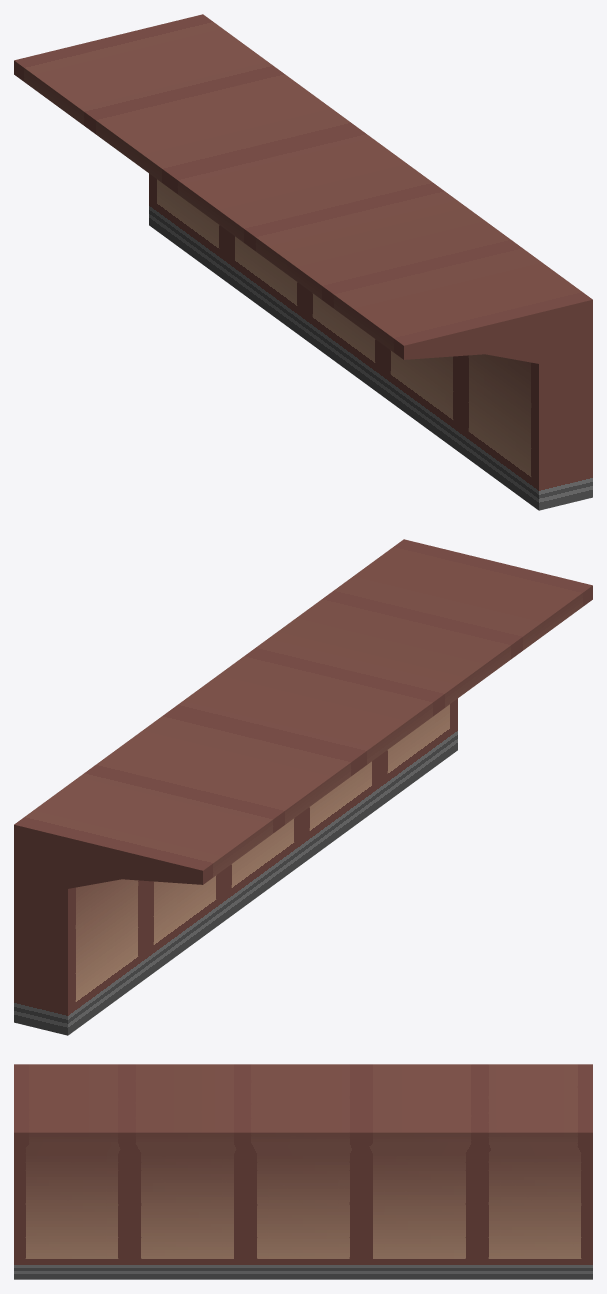
The model's file is tunnelclosed.fbx.
3 renders of one model, top to bottom at view 1: azimuth 30°, elevation 25°; view 2: azimuth 150°, elevation 25°; view 3: azimuth 270°, elevation 25°, orthographic. The views are drawn at different scales.
Visible parts, largest first — view 1: TunnelClosed; view 2: TunnelClosed; view 3: TunnelClosed.
Part boxes in pixels (box(x1,y1,x2,y2)): TunnelClosed: box(14, 14, 592, 510); TunnelClosed: box(14, 539, 592, 1035); TunnelClosed: box(14, 1064, 592, 1279).
Size of the model in its own units: 140 by 140 by 500.
